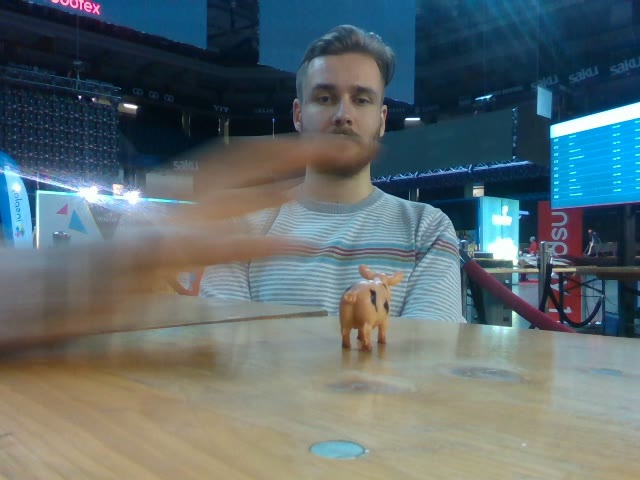toy: (338, 264, 403, 352)
